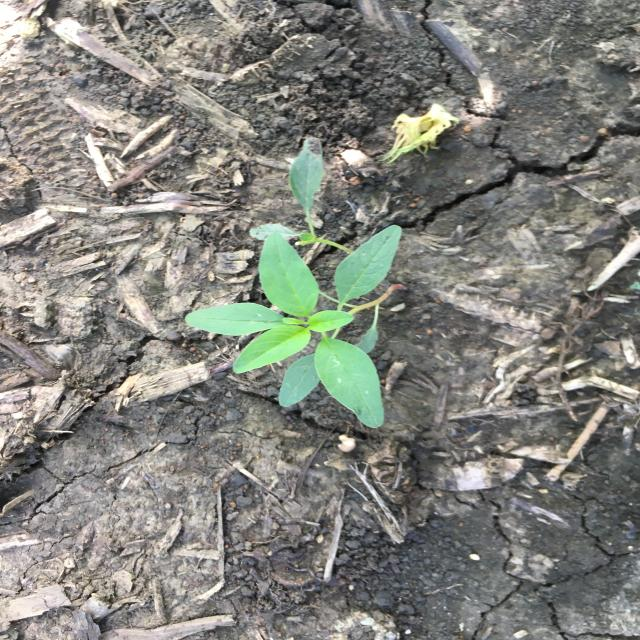Waterhemp: (183, 136, 403, 430)
